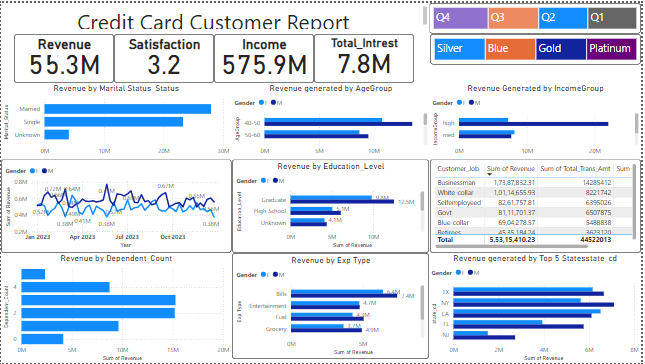

This screenshot's page, from the dashboard's own definition file:
{"tool":"powerbi","page":{"name":"CC Customer","canvas":[1280,720],"ordinal":2},"visuals":[{"type":"clusteredBarChart","title":" Revenue by Exp Type","fields":{"Category":["credit_card.Exp Type"],"Y":["Sum(credit_card.Revenue)"],"Series":["customer.Gender"]},"box":[461.2,500,393.9,212.2],"z":0},{"type":"clusteredBarChart","title":"Revenue by Education_Level","fields":{"Category":["customer.Education_Level"],"Y":["Sum(credit_card.Revenue)"],"Series":["customer.Gender"]},"box":[461.2,312.2,393.9,187.8],"z":1000},{"type":"card","title":"Revenue","fields":{"Values":["Sum(credit_card.Revenue)"]},"box":[26.5,61.2,200,98],"z":2000},{"type":"card","title":"Income","fields":{"Values":["Sum(customer.Income)"]},"box":[426.5,61.2,200,98],"z":3000},{"type":"card","title":"Total_Intrest","fields":{"Values":["Sum(credit_card.Interest_Earned)"]},"box":[626.5,61.2,200,98],"z":4000},{"type":"card","title":"Satisfaction","fields":{"Values":["Avg(customer.Cust_Satisfaction_Score)"]},"box":[226.5,61.2,200,98],"z":5000},{"type":"treemap","fields":{"Group":["credit_card.Qtr"],"Values":["Avg(credit_card.Client_Num)"]},"box":[855.1,0,424.5,61.2],"z":6000},{"type":"treemap","fields":{"Values":["Avg(credit_card.Client_Num)"],"Group":["credit_card.Card_Category"]},"box":[857.1,61.2,422.4,61.2],"z":9000},{"type":"tableEx","fields":{"Values":["customer.Customer_Job","Sum(credit_card.Revenue)","Sum(credit_card.Total_Trans_Amt)","Sum(credit_card.Interest_Earned)"]},"box":[857.1,312.2,422.4,187.8],"z":10000},{"type":"textbox","box":[100,100,12.2,8.2],"z":11000},{"type":"textbox","box":[0,2,857.1,55.1],"z":12000},{"type":"lineChart","fields":{"Y":["Sum(credit_card.Revenue)"],"Category":["credit_card.Week_Start_Date.Variation.Date Hierarchy.Year","credit_card.Week_Start_Date.Variation.Date Hierarchy.Quarter","credit_card.Week_Start_Date.Variation.Date Hierarchy.Month","credit_card.Week_Start_Date.Variation.Date Hierarchy.Day"],"Series":["customer.Gender"]},"box":[0,312.2,461.2,187.8],"z":13000},{"type":"clusteredBarChart","title":" Revenue Generated  by IncomeGroup","fields":{"Category":["customer.IncomeGroup"],"Y":["Sum(credit_card.Revenue)"],"Series":["customer.Gender"]},"box":[857.1,159.2,422.4,153.1],"z":14000},{"type":"clusteredBarChart","title":" Revenue generated by AgeGroup","fields":{"Y":["Sum(credit_card.Revenue)"],"Category":["customer.AgeGroup"],"Series":["customer.Gender"]},"box":[461.2,159.2,395.9,153.1],"z":15000},{"type":"clusteredBarChart","title":" Revenue generated by Top 5 Statesstate_cd","fields":{"Y":["Sum(credit_card.Revenue)"],"Category":["customer.state_cd"],"Series":["customer.Gender"]},"box":[855.1,500,424.5,220.4],"z":16000},{"type":"clusteredBarChart","title":" Revenue by Dependent_Count","fields":{"Category":["customer.Dependent_Count"],"Y":["Sum(credit_card.Revenue)"]},"box":[0,500,461.2,220.4],"z":16001},{"type":"clusteredBarChart","title":"Revenue by Marital Status_Status","fields":{"Category":["customer.Marital_Status"],"Y":["Sum(credit_card.Revenue)"]},"box":[0,159.2,461.2,153.1],"z":16002}]}

Visuals, with their boxes in screenshot pixels (x1, y1, x2, y2), scaled from the page's 1280x720 canvas onto the 645x364 screenshot:
" Revenue by Exp Type" clusteredBarChart: (232,253,431,360)
"Revenue by Education_Level" clusteredBarChart: (232,158,431,253)
"Revenue" card: (13,31,114,80)
"Income" card: (215,31,316,80)
"Total_Intrest" card: (316,31,416,80)
"Satisfaction" card: (114,31,215,80)
treemap - credit_card.Qtr x Avg(credit_card.Client_Num): (431,0,644,31)
treemap - Avg(credit_card.Client_Num) x credit_card.Card_Category: (432,31,644,62)
tableEx - customer.Customer_Job x Sum(credit_card.Revenue): (432,158,644,253)
textbox: (50,51,57,55)
textbox: (0,1,432,29)
lineChart - Sum(credit_card.Revenue) x credit_card.Week_Start_Date.Variation.Date Hierarchy.Year: (0,158,232,253)
" Revenue Generated  by IncomeGroup" clusteredBarChart: (432,80,644,158)
" Revenue generated by AgeGroup" clusteredBarChart: (232,80,432,158)
" Revenue generated by Top 5 Statesstate_cd" clusteredBarChart: (431,253,644,363)
" Revenue by Dependent_Count" clusteredBarChart: (0,253,232,363)
"Revenue by Marital Status_Status" clusteredBarChart: (0,80,232,158)
